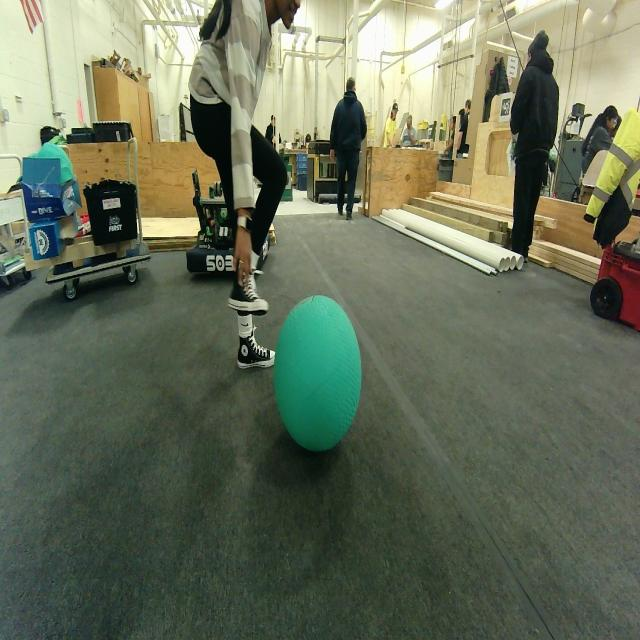algae: (273, 286, 368, 459)
